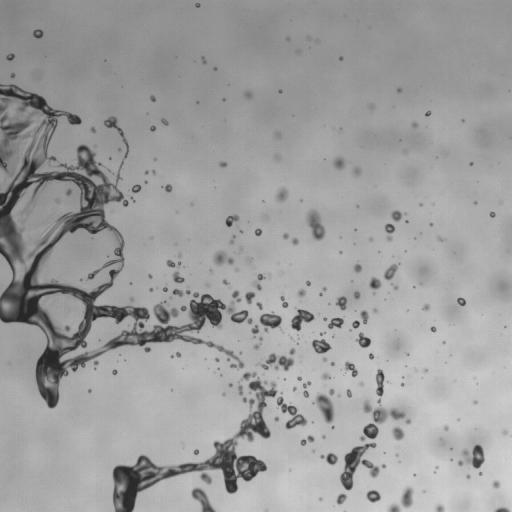droplet: (289, 306, 315, 331), (457, 444, 484, 468), (259, 310, 284, 333), (212, 250, 234, 266), (311, 338, 332, 353), (319, 452, 338, 465), (355, 332, 371, 347), (327, 315, 344, 329), (369, 276, 381, 295), (274, 186, 288, 202), (390, 210, 407, 223), (384, 223, 395, 241), (332, 156, 346, 170), (391, 425, 404, 440), (366, 489, 381, 502), (225, 214, 239, 227), (335, 296, 347, 310), (359, 310, 369, 325), (244, 291, 255, 304), (336, 493, 347, 505), (250, 324, 259, 338), (0, 76, 11, 87), (13, 76, 24, 87), (24, 82, 35, 93), (45, 96, 56, 107), (56, 115, 67, 126), (118, 181, 129, 192), (102, 201, 113, 212), (223, 245, 234, 256), (360, 284, 371, 295), (152, 291, 163, 302), (220, 293, 231, 304), (179, 294, 190, 305), (171, 296, 182, 307), (236, 299, 247, 310), (355, 299, 366, 310), (272, 304, 283, 315), (330, 306, 341, 317), (285, 307, 296, 318), (249, 308, 260, 319), (180, 312, 191, 323), (146, 316, 157, 327), (280, 317, 291, 328), (13, 320, 24, 331), (143, 320, 154, 331), (359, 324, 370, 335), (197, 327, 208, 338), (170, 338, 181, 349), (276, 346, 287, 357), (265, 368, 276, 379), (256, 370, 267, 381), (345, 376, 356, 387), (56, 382, 67, 393), (381, 399, 392, 410), (239, 407, 250, 418), (362, 412, 373, 423), (262, 413, 273, 424), (384, 416, 395, 427), (263, 417, 274, 428), (236, 436, 247, 447), (234, 445, 245, 456), (205, 446, 216, 457), (361, 449, 372, 460), (124, 456, 135, 467), (169, 456, 180, 467), (334, 459, 345, 470), (354, 463, 365, 474), (212, 468, 223, 479), (403, 476, 414, 487), (134, 490, 145, 501), (391, 493, 402, 504), (377, 497, 388, 508), (191, 500, 202, 511), (128, 184, 141, 193), (52, 197, 63, 207), (296, 288, 306, 298), (352, 166, 361, 177), (161, 184, 172, 193), (320, 372, 332, 380), (33, 29, 43, 38), (353, 263, 362, 273), (243, 90, 252, 99), (457, 297, 466, 306), (341, 152, 350, 161), (343, 162, 352, 171), (268, 187, 277, 196), (285, 193, 294, 202), (319, 217, 328, 226), (205, 256, 214, 265), (93, 297, 102, 306), (114, 299, 123, 308), (220, 309, 229, 318), (167, 316, 176, 325), (342, 319, 351, 328), (357, 323, 366, 332), (35, 346, 44, 355), (322, 363, 331, 372), (27, 365, 36, 374), (327, 366, 336, 375), (325, 379, 334, 388), (308, 390, 317, 399), (264, 395, 273, 404), (38, 398, 47, 407), (331, 408, 340, 417), (282, 411, 291, 420), (315, 411, 324, 420), (395, 418, 404, 427), (193, 454, 202, 463), (151, 456, 160, 465), (464, 462, 473, 471), (191, 469, 200, 478), (105, 476, 114, 485), (235, 477, 244, 486), (197, 480, 206, 489), (208, 498, 217, 507), (434, 504, 445, 511), (421, 303, 430, 311), (352, 320, 360, 329), (492, 479, 500, 488), (104, 505, 115, 511), (333, 505, 344, 511), (398, 505, 409, 511), (6, 53, 14, 61), (254, 228, 262, 236), (291, 237, 299, 245), (390, 282, 398, 290), (437, 235, 446, 242), (353, 290, 360, 299), (256, 301, 263, 310), (162, 282, 168, 292), (368, 103, 375, 111), (274, 131, 281, 139), (222, 278, 230, 285), (0, 51, 5, 62), (0, 182, 5, 193), (161, 118, 168, 125), (411, 121, 418, 128), (274, 154, 281, 161), (282, 232, 289, 239), (501, 428, 508, 435), (206, 61, 213, 68), (9, 77, 16, 84), (41, 92, 48, 99), (155, 121, 162, 128), (92, 155, 99, 162), (327, 156, 334, 163), (71, 159, 78, 166), (328, 164, 335, 171), (360, 168, 367, 175), (122, 192, 129, 199), (104, 215, 111, 222), (305, 226, 312, 233), (322, 233, 329, 240), (312, 238, 319, 245), (221, 261, 228, 268), (382, 262, 389, 269), (168, 266, 175, 273), (352, 271, 359, 278), (113, 274, 120, 281), (377, 274, 384, 281), (390, 275, 397, 282), (363, 278, 370, 285), (147, 279, 154, 286), (174, 282, 181, 289), (249, 285, 256, 292), (238, 291, 245, 298), (133, 300, 140, 307), (164, 304, 171, 311), (262, 306, 269, 313), (147, 308, 154, 315), (366, 310, 373, 317), (252, 317, 259, 324), (299, 320, 306, 327), (257, 323, 264, 330), (353, 327, 360, 334), (183, 329, 190, 336), (189, 329, 196, 336), (324, 336, 331, 343), (288, 341, 295, 348), (115, 345, 122, 352), (364, 345, 371, 352), (274, 350, 281, 357), (218, 351, 225, 358), (290, 353, 297, 360), (239, 354, 246, 361), (85, 359, 92, 366), (238, 367, 245, 374), (59, 375, 66, 382), (295, 381, 302, 388), (31, 383, 38, 390), (274, 384, 281, 391), (231, 385, 238, 392), (296, 385, 303, 392), (322, 389, 329, 396), (327, 394, 334, 401), (56, 398, 63, 405), (283, 398, 290, 405), (370, 402, 377, 409), (395, 405, 402, 412), (241, 412, 248, 419), (233, 425, 240, 432), (252, 431, 259, 438), (364, 436, 371, 443), (397, 438, 404, 445), (466, 445, 473, 452), (344, 446, 351, 453), (179, 457, 186, 464), (372, 459, 379, 466), (479, 462, 486, 469), (256, 470, 263, 477), (106, 471, 113, 478), (168, 475, 175, 482), (161, 477, 168, 484), (339, 486, 346, 493), (185, 492, 192, 499), (410, 492, 417, 499), (341, 499, 348, 506), (496, 501, 503, 508), (150, 94, 156, 102), (219, 161, 227, 167), (193, 448, 199, 456), (506, 501, 511, 510), (424, 110, 431, 116), (149, 125, 156, 131), (90, 126, 96, 133), (262, 214, 268, 221), (176, 252, 182, 259), (291, 385, 297, 392), (328, 388, 334, 395), (201, 56, 206, 64), (346, 389, 351, 397), (396, 87, 402, 93), (402, 148, 408, 154), (489, 211, 495, 217), (430, 326, 436, 332), (0, 129, 4, 138), (0, 285, 4, 294), (274, 415, 279, 422), (443, 424, 448, 431), (10, 72, 15, 78), (151, 169, 156, 175), (305, 280, 310, 286), (321, 286, 327, 291), (129, 296, 134, 302), (112, 369, 117, 375), (422, 368, 428, 373), (296, 376, 302, 381), (358, 381, 364, 386), (319, 331, 326, 335), (507, 427, 511, 434), (131, 507, 138, 511), (429, 507, 436, 511), (442, 507, 449, 511), (285, 36, 290, 41), (144, 170, 149, 175), (368, 237, 373, 242), (372, 308, 377, 313), (322, 316, 327, 321), (214, 357, 219, 362), (322, 357, 327, 362), (228, 382, 233, 387), (321, 434, 326, 439), (318, 496, 323, 501), (41, 33, 46, 38), (35, 37, 40, 42), (5, 49, 10, 54), (197, 58, 202, 63), (391, 87, 396, 92), (401, 87, 406, 92), (30, 88, 35, 93), (37, 91, 42, 96), (398, 91, 403, 96), (146, 98, 151, 103), (70, 109, 75, 114), (77, 113, 82, 118), (165, 116, 170, 121), (115, 121, 120, 126), (406, 122, 411, 127), (73, 123, 78, 128), (145, 124, 150, 129), (110, 126, 115, 131), (87, 130, 92, 135), (123, 132, 128, 137), (117, 135, 122, 140), (75, 141, 80, 146), (88, 145, 93, 150), (121, 146, 126, 151), (46, 151, 51, 156), (54, 153, 59, 158), (221, 157, 226, 162), (123, 158, 128, 163), (146, 165, 151, 170), (220, 166, 225, 171), (147, 171, 152, 176), (143, 174, 148, 179), (139, 181, 144, 186), (170, 182, 175, 187), (160, 187, 165, 192), (170, 187, 175, 192), (132, 192, 137, 197), (127, 198, 132, 203), (399, 208, 404, 213), (399, 217, 404, 222), (389, 219, 394, 224), (231, 220, 236, 225), (221, 222, 226, 227), (380, 226, 385, 231), (234, 230, 239, 235), (383, 231, 388, 236), (390, 231, 395, 236), (440, 233, 445, 238), (227, 234, 232, 239), (295, 234, 300, 239), (122, 235, 127, 240), (287, 235, 292, 240), (233, 237, 238, 242), (387, 240, 392, 245), (294, 243, 299, 248), (121, 249, 126, 254), (123, 258, 128, 263), (251, 259, 256, 264), (351, 260, 356, 265), (231, 262, 236, 267), (360, 264, 365, 269), (349, 265, 354, 270), (393, 270, 398, 275), (178, 272, 183, 277), (252, 275, 257, 280), (258, 279, 263, 284), (4, 281, 9, 286), (302, 284, 307, 289), (352, 286, 357, 291), (157, 287, 162, 292), (369, 287, 374, 292), (374, 287, 379, 292), (167, 288, 172, 293), (228, 288, 233, 293), (189, 289, 194, 294), (336, 292, 341, 297), (359, 292, 364, 297), (173, 293, 178, 298), (188, 294, 193, 299), (212, 294, 217, 299), (241, 296, 246, 301), (250, 297, 255, 302), (425, 299, 430, 304), (344, 301, 349, 306), (418, 302, 423, 307), (335, 304, 340, 309), (175, 305, 180, 310), (301, 305, 306, 310), (428, 305, 433, 310), (308, 308, 313, 313), (422, 309, 427, 314), (246, 313, 251, 318), (204, 317, 209, 322), (357, 317, 362, 322), (366, 317, 371, 322), (325, 318, 330, 323), (242, 319, 247, 324), (309, 319, 314, 324), (249, 323, 254, 328), (266, 325, 271, 330), (332, 325, 337, 330), (273, 326, 278, 331), (291, 328, 296, 333), (248, 331, 253, 336), (363, 332, 368, 337), (316, 335, 321, 340), (202, 336, 207, 341), (254, 338, 259, 343), (261, 338, 266, 343), (212, 339, 217, 344), (144, 341, 149, 346), (186, 341, 191, 346), (354, 341, 359, 346), (199, 342, 204, 347), (248, 343, 253, 348), (223, 344, 228, 349), (293, 344, 298, 349), (210, 346, 215, 351), (309, 346, 314, 351), (251, 348, 256, 353), (325, 349, 330, 354), (233, 350, 238, 355), (285, 353, 290, 358), (264, 354, 269, 359), (94, 355, 99, 360), (118, 355, 123, 360), (32, 358, 37, 363), (348, 358, 353, 363), (232, 359, 237, 364), (225, 360, 230, 365), (325, 360, 330, 365), (215, 361, 220, 366), (340, 363, 345, 368), (76, 364, 81, 369), (278, 364, 283, 369), (287, 365, 292, 370), (354, 365, 359, 370), (66, 366, 71, 371), (417, 367, 422, 372), (318, 369, 323, 374), (346, 369, 351, 374), (382, 370, 387, 375), (422, 372, 427, 377), (383, 375, 388, 380), (301, 377, 306, 382), (324, 378, 329, 383), (381, 380, 386, 385), (373, 383, 378, 388), (305, 385, 310, 390), (382, 385, 387, 390), (333, 389, 338, 394), (350, 389, 355, 394), (341, 391, 346, 396), (274, 392, 279, 397), (298, 392, 303, 397), (374, 394, 379, 399), (237, 395, 242, 400), (244, 401, 249, 406), (359, 403, 364, 408), (51, 406, 56, 411), (302, 413, 307, 418), (410, 418, 415, 423), (327, 421, 332, 426), (295, 423, 300, 428), (438, 425, 443, 430), (288, 427, 293, 432), (269, 431, 274, 436), (309, 431, 314, 436), (302, 434, 307, 439), (504, 434, 509, 439), (266, 436, 271, 441), (218, 438, 223, 443), (359, 441, 364, 446), (367, 446, 372, 451), (331, 449, 336, 454), (482, 449, 487, 454), (322, 451, 327, 456), (254, 454, 259, 459), (359, 455, 364, 460), (459, 455, 464, 460), (393, 456, 398, 461), (321, 457, 326, 462), (452, 459, 457, 464), (264, 461, 269, 466), (378, 467, 383, 472), (474, 467, 479, 472), (251, 476, 256, 481), (488, 479, 493, 484), (498, 480, 503, 485), (153, 482, 158, 487), (351, 483, 356, 488), (369, 485, 374, 490), (146, 486, 151, 491), (492, 487, 497, 492), (377, 489, 382, 494), (108, 490, 113, 495), (186, 490, 191, 495), (362, 490, 367, 495), (231, 491, 236, 496), (332, 495, 337, 500), (364, 498, 369, 503), (373, 500, 378, 505), (239, 246, 243, 252), (209, 268, 213, 274), (148, 273, 152, 279), (400, 382, 406, 386), (0, 166, 3, 173), (0, 253, 3, 260), (195, 3, 200, 7), (338, 56, 343, 60), (469, 161, 473, 166), (234, 267, 239, 271), (205, 283, 209, 288), (149, 287, 153, 292), (472, 400, 477, 404), (466, 474, 470, 479), (278, 89, 282, 93), (153, 157, 157, 161), (473, 200, 477, 204), (429, 222, 433, 226), (318, 292, 322, 296), (405, 352, 409, 356), (330, 362, 334, 366), (221, 392, 225, 396), (395, 453, 399, 457), (478, 471, 482, 475), (414, 367, 417, 372), (213, 67, 217, 70), (461, 119, 465, 122), (118, 147, 121, 151), (190, 202, 193, 206), (419, 203, 423, 206), (405, 220, 409, 223), (149, 236, 153, 239), (339, 250, 342, 254), (282, 377, 286, 380), (386, 380, 390, 383), (88, 389, 91, 393), (337, 393, 340, 397), (456, 418, 460, 421), (331, 425, 334, 429), (312, 449, 315, 453), (422, 489, 425, 493), (264, 508, 268, 511), (194, 0, 199, 2), (0, 113, 2, 118), (0, 319, 2, 324), (222, 98, 225, 101), (196, 100, 199, 103), (339, 127, 342, 130), (144, 180, 147, 183), (300, 199, 303, 202), (354, 228, 357, 231), (339, 236, 342, 239), (129, 282, 132, 285), (412, 285, 415, 288), (349, 328, 352, 331), (97, 339, 100, 342), (442, 341, 445, 344), (473, 376, 476, 379), (170, 388, 173, 391), (449, 447, 452, 450), (450, 458, 453, 461), (398, 460, 401, 463), (288, 468, 291, 471), (413, 473, 416, 476), (194, 6, 197, 9), (197, 6, 200, 9), (34, 26, 37, 29), (38, 26, 41, 29), (30, 30, 33, 33), (13, 52, 16, 55), (201, 52, 204, 55), (336, 54, 339, 57), (342, 56, 345, 59), (12, 57, 15, 60), (204, 57, 207, 60), (6, 59, 9, 62), (337, 59, 340, 62), (340, 59, 343, 62), (202, 63, 205, 66), (211, 64, 214, 67), (215, 64, 218, 67), (10, 69, 13, 72), (211, 69, 214, 72), (281, 88, 284, 91), (277, 92, 280, 95), (154, 95, 157, 98), (220, 95, 223, 98), (224, 95, 227, 98), (219, 99, 222, 102), (192, 100, 195, 103), (223, 100, 226, 103), (195, 103, 198, 106), (423, 109, 426, 112), (428, 114, 431, 117), (425, 115, 428, 118), (460, 115, 463, 118), (104, 116, 107, 119), (463, 116, 466, 119), (459, 120, 462, 123), (55, 125, 58, 128), (94, 126, 97, 129), (153, 129, 156, 132), (51, 134, 54, 137), (49, 138, 52, 141), (127, 142, 130, 145), (128, 146, 131, 149), (126, 153, 129, 156), (110, 155, 113, 158), (108, 159, 111, 162), (468, 159, 471, 162), (61, 160, 64, 163), (118, 160, 121, 163), (121, 164, 124, 167), (471, 164, 474, 167), (154, 168, 157, 171), (141, 170, 144, 173), (114, 171, 117, 174), (119, 173, 122, 176), (136, 181, 139, 184), (129, 184, 132, 187), (157, 184, 160, 187), (167, 191, 170, 194), (261, 196, 264, 199), (471, 198, 474, 201), (258, 199, 261, 202), (302, 199, 305, 202), (476, 199, 479, 202), (134, 200, 137, 203), (420, 200, 423, 203), (415, 203, 418, 206), (471, 203, 474, 206), (475, 203, 478, 206), (122, 205, 125, 208), (420, 205, 423, 208), (355, 207, 358, 210), (491, 208, 494, 211), (487, 210, 490, 213), (494, 211, 497, 214), (228, 212, 231, 215), (489, 216, 492, 219), (492, 216, 495, 219), (429, 219, 432, 222), (404, 222, 407, 225), (426, 223, 429, 226), (432, 223, 435, 226), (355, 225, 358, 228), (253, 226, 256, 229), (116, 227, 119, 230), (240, 227, 243, 230), (260, 227, 263, 230), (356, 228, 359, 231), (352, 230, 355, 233), (242, 231, 245, 234), (252, 232, 255, 235), (260, 232, 263, 235), (280, 232, 283, 235), (255, 235, 258, 238), (415, 235, 418, 238), (280, 236, 283, 239), (123, 239, 126, 242), (437, 240, 440, 243), (338, 247, 341, 250), (378, 247, 381, 250), (341, 251, 344, 254), (336, 252, 339, 255), (378, 252, 381, 255), (179, 258, 182, 261), (394, 261, 397, 264), (9, 270, 12, 273), (259, 270, 262, 273), (150, 272, 153, 275), (145, 275, 148, 278), (128, 278, 131, 281), (308, 278, 311, 281), (219, 279, 222, 282), (131, 280, 134, 283), (310, 281, 313, 284), (126, 282, 129, 285), (222, 283, 225, 286), (226, 283, 229, 286), (129, 284, 132, 287), (409, 284, 412, 287), (160, 285, 163, 288), (325, 285, 328, 288), (415, 285, 418, 288), (152, 286, 155, 289), (397, 286, 400, 289), (186, 287, 189, 290), (411, 287, 414, 290), (147, 290, 150, 293), (321, 290, 324, 293), (162, 291, 165, 294), (316, 294, 319, 297), (459, 294, 462, 297), (319, 295, 322, 298), (464, 298, 467, 301), (279, 300, 282, 303), (454, 300, 457, 303), (287, 302, 290, 305), (324, 302, 327, 305), (456, 303, 459, 306), (255, 305, 258, 308), (407, 310, 410, 313), (351, 318, 354, 321), (234, 321, 237, 324), (430, 323, 433, 326), (500, 325, 503, 328), (350, 326, 353, 329), (435, 327, 438, 330), (503, 327, 506, 330), (320, 329, 323, 332), (429, 330, 432, 333), (441, 337, 444, 340), (297, 339, 300, 342), (445, 340, 448, 343), (442, 343, 445, 346), (405, 349, 408, 352), (178, 350, 181, 353), (146, 351, 149, 354), (408, 351, 411, 354), (403, 353, 406, 356), (173, 354, 176, 357), (365, 354, 368, 357), (408, 354, 411, 357), (385, 356, 388, 359), (372, 357, 375, 360), (368, 358, 371, 361), (94, 364, 97, 367), (407, 364, 410, 367), (331, 365, 334, 368), (425, 365, 428, 368), (112, 366, 115, 369), (233, 367, 236, 370), (109, 368, 112, 371), (116, 369, 119, 372), (215, 369, 218, 372), (427, 369, 430, 372), (374, 370, 377, 373), (115, 372, 118, 375), (110, 373, 113, 376), (297, 373, 300, 376), (403, 373, 406, 376), (330, 374, 333, 377), (354, 375, 357, 378), (308, 378, 311, 381), (401, 379, 404, 382), (473, 379, 476, 382), (397, 382, 400, 385), (225, 383, 228, 386), (403, 384, 406, 387), (87, 385, 90, 388), (289, 387, 292, 390), (84, 388, 87, 391), (167, 388, 170, 391), (294, 389, 297, 392), (90, 390, 93, 393), (219, 390, 222, 393), (474, 397, 477, 400), (474, 403, 477, 406), (333, 426, 336, 429), (447, 428, 450, 431), (321, 431, 324, 434), (325, 434, 328, 437), (297, 439, 300, 442), (448, 444, 451, 447), (192, 447, 195, 450), (446, 447, 449, 450), (383, 448, 386, 451), (198, 449, 201, 452), (190, 450, 193, 453), (383, 453, 386, 456), (446, 458, 449, 461), (384, 462, 387, 465), (434, 462, 437, 465), (438, 465, 441, 468), (412, 470, 415, 473), (429, 470, 432, 473), (415, 472, 418, 475), (409, 473, 412, 476), (432, 473, 435, 476), (463, 473, 466, 476), (478, 475, 481, 478), (464, 477, 467, 480), (320, 494, 323, 497), (315, 498, 318, 501), (320, 500, 323, 503), (262, 200, 265, 202), (432, 202, 434, 205), (356, 205, 359, 207), (176, 210, 178, 213), (353, 242, 355, 245), (378, 250, 380, 253), (276, 262, 279, 264), (350, 280, 353, 282), (420, 282, 422, 285), (328, 302, 330, 305), (406, 309, 409, 311), (118, 353, 121, 355), (217, 367, 219, 370), (220, 373, 222, 376), (509, 434, 511, 437), (383, 451, 386, 453), (104, 59, 106, 61), (146, 112, 148, 114), (109, 157, 111, 159), (414, 237, 416, 239), (404, 250, 406, 252), (183, 265, 185, 267), (384, 298, 386, 300), (504, 325, 506, 327), (124, 359, 126, 361), (204, 358, 206, 360), (405, 365, 407, 367), (402, 376, 404, 378), (311, 421, 313, 423), (436, 156, 437, 158), (354, 310, 356, 311), (445, 361, 446, 363), (421, 377, 423, 378), (476, 383, 478, 384), (324, 158, 325, 159), (248, 221, 249, 222), (395, 329, 396, 330)
ligament: (254, 347, 296, 371), (312, 392, 335, 423), (387, 486, 414, 511), (305, 209, 325, 241), (191, 487, 217, 511), (383, 262, 401, 280), (300, 434, 314, 446), (253, 334, 263, 350), (279, 293, 288, 309), (302, 381, 311, 397), (493, 506, 511, 511), (170, 351, 181, 358), (229, 234, 236, 244), (236, 225, 244, 233), (433, 465, 438, 473), (130, 196, 135, 203), (332, 333, 334, 338), (237, 340, 240, 341), (343, 510, 346, 511)
